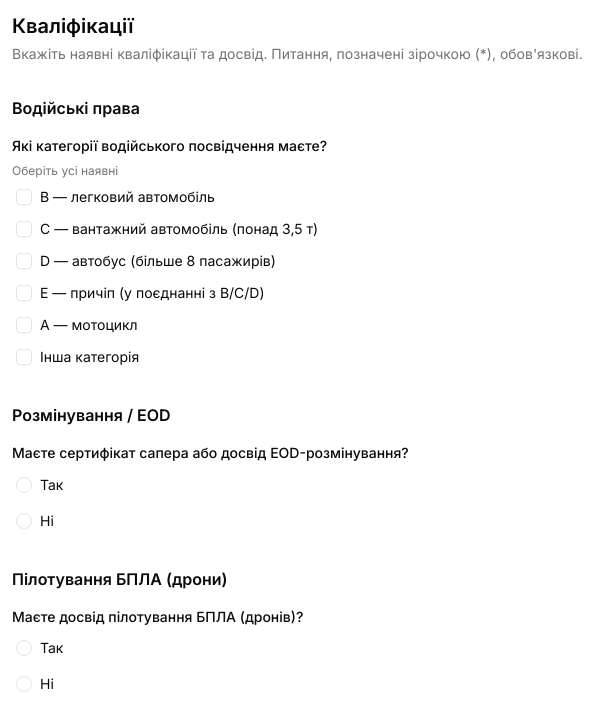
Scenario: QualificationsBlock — driver license multi-select › hides driving experience question after deselecting all categories
The width and height of the screenshot is (599, 727).
Click the text "B — легковий автомобіль" at (127, 197), box [40,187,215,207]
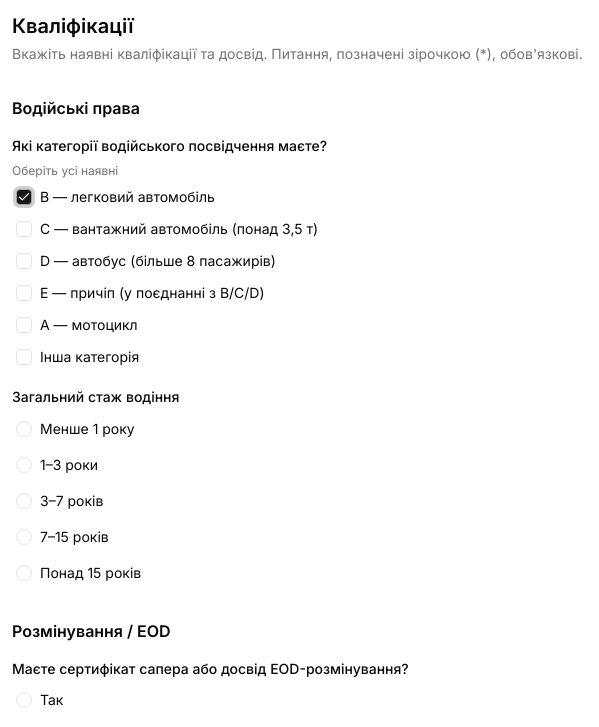
Now the text "Загальний стаж водіння" is shown, box [12,388,179,405]
Click the text "B — легковий автомобіль" at (127, 197), box [40,187,215,207]
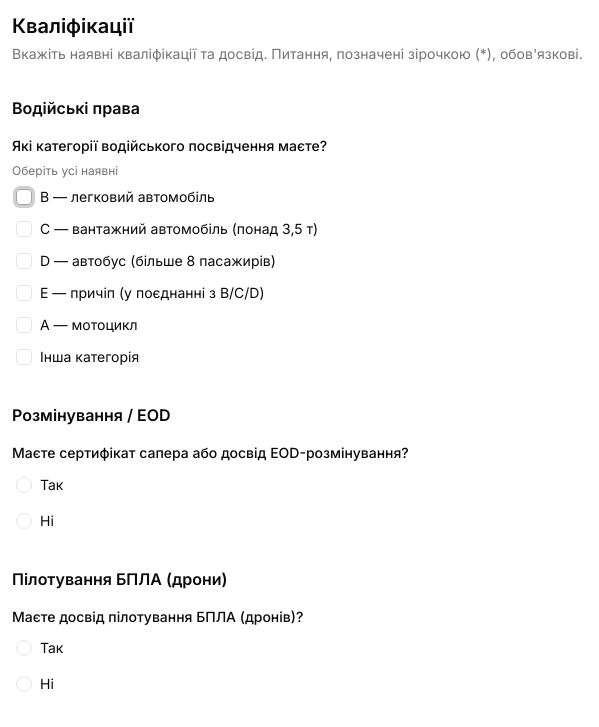
Now the text "Загальний стаж водіння" is gone
